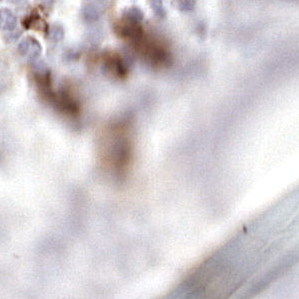Lymphocyte: (20, 5, 50, 31)
